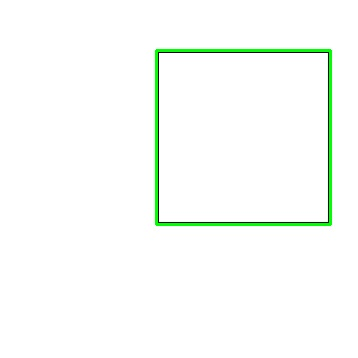line_segment: (155, 49, 332, 226)
